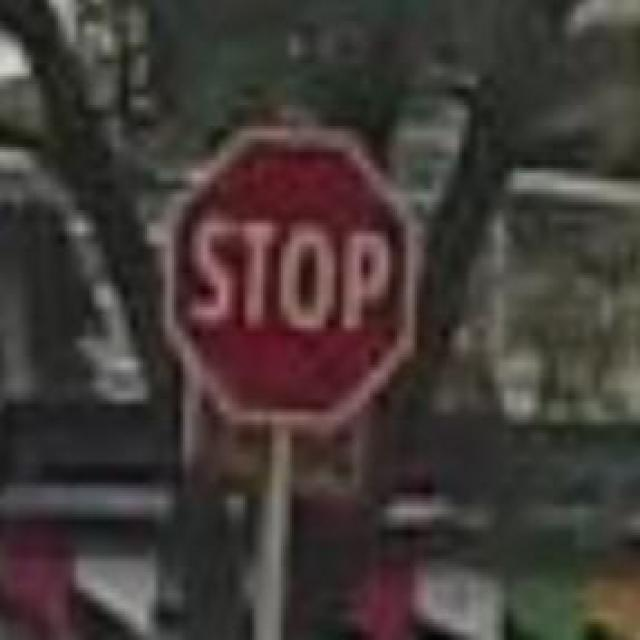traffic sign: (163, 139, 406, 425)
